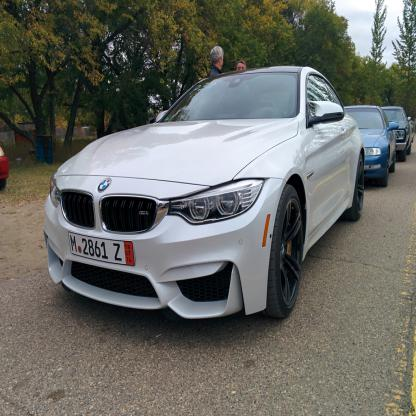Car: (43, 64, 364, 319), (345, 105, 398, 187), (381, 104, 411, 162)
